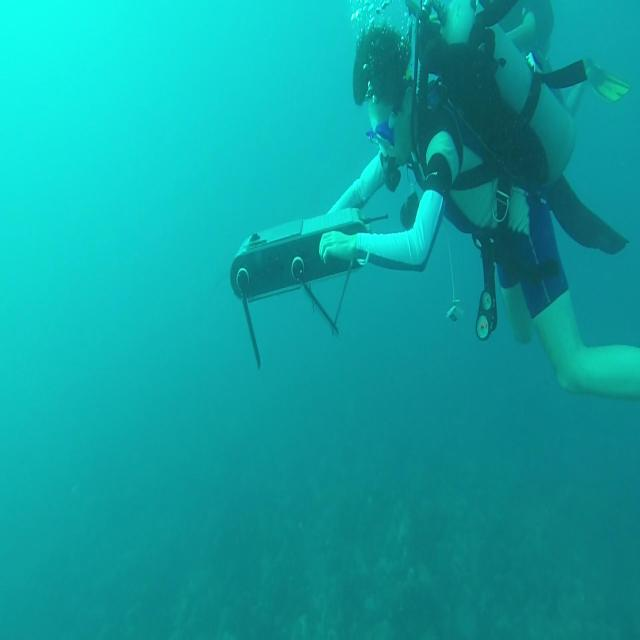human: (318, 14, 638, 400)
